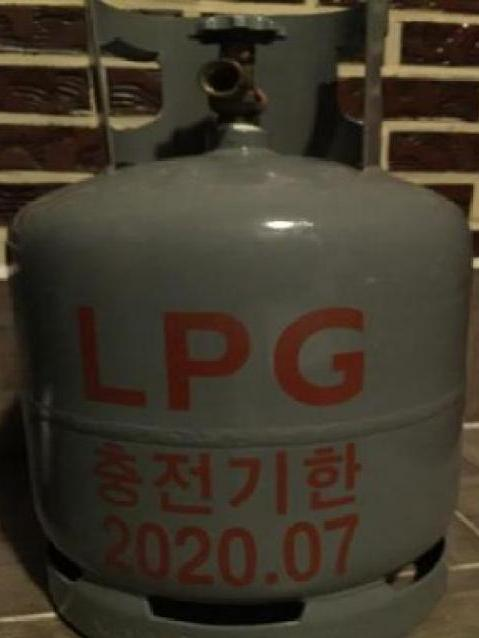cylinder: (1, 0, 479, 638)
